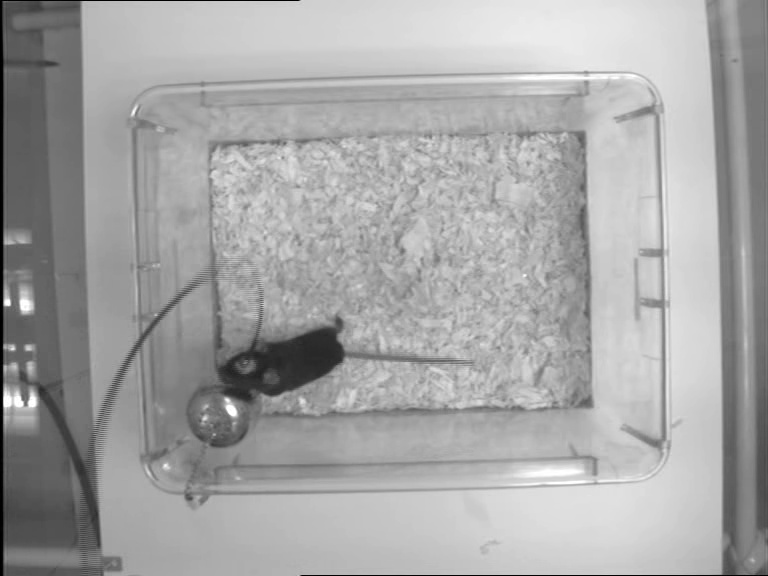mice: (214, 312, 476, 396)
